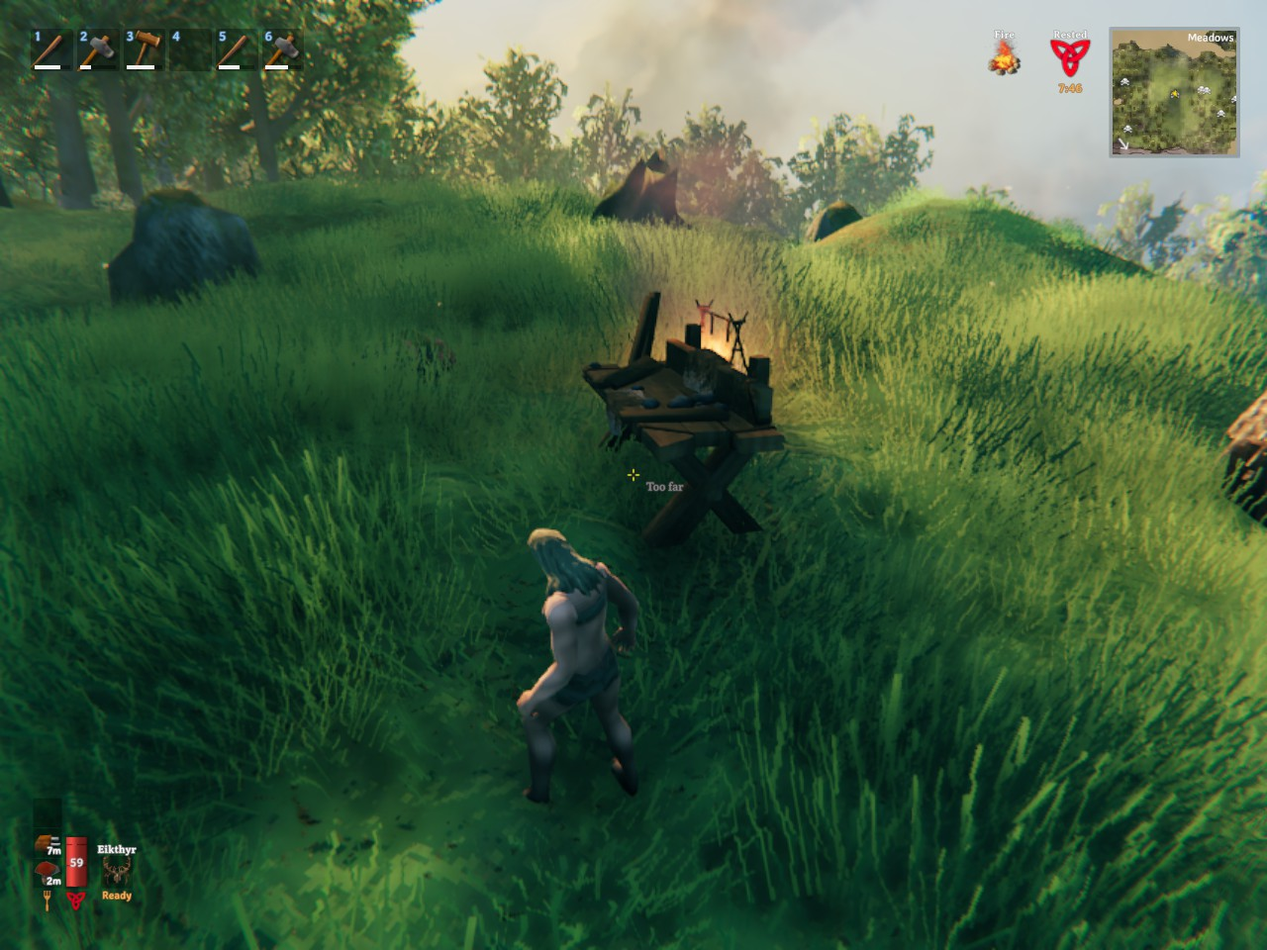Cook Station: (697, 301, 746, 371)
Food Indicator: (36, 797, 63, 891)
Health Bar: (63, 820, 90, 891)
Hotbar: (25, 21, 398, 78)
Status Indicator: (973, 24, 1109, 101)
Workbench: (582, 339, 783, 545)
